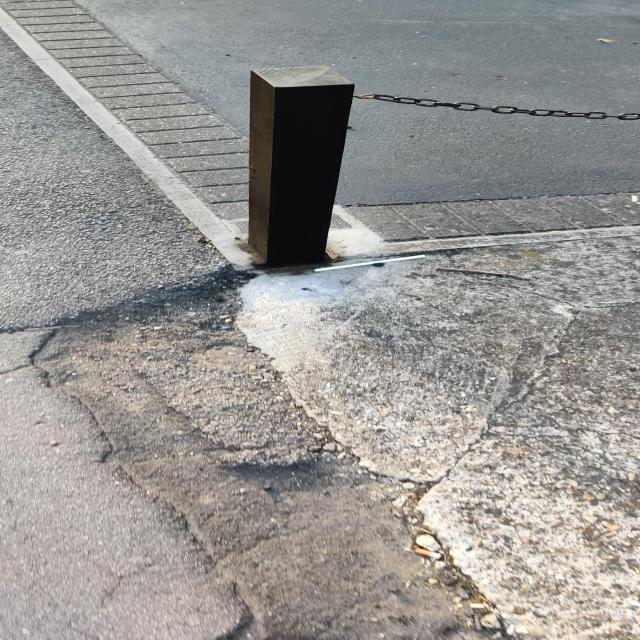litter: (294, 253, 465, 283)
